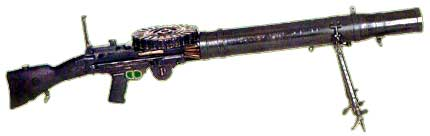rifle: (11, 6, 423, 124)
